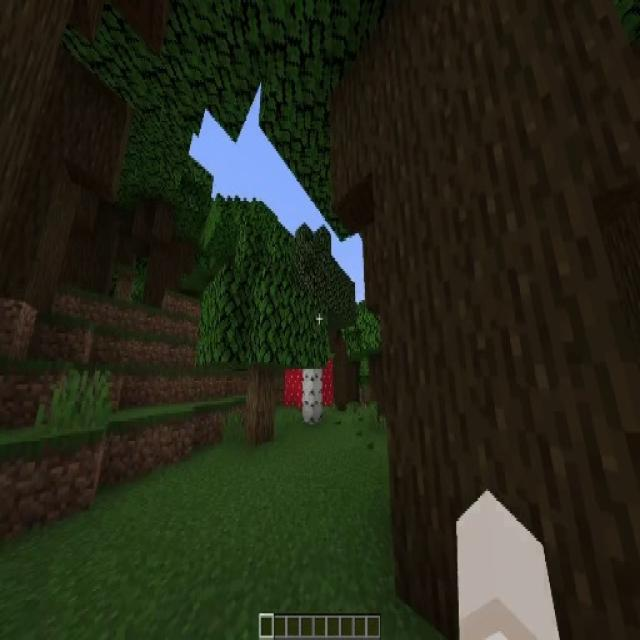birch: (274, 225, 355, 424)
birch_log: (303, 368, 323, 424)
dark_oak: (130, 130, 203, 302), (326, 289, 368, 411)
dark_oak_log: (370, 11, 640, 640), (0, 9, 104, 308), (138, 207, 180, 299)
oak: (206, 229, 314, 449)
oak_log: (245, 374, 274, 445)
